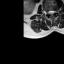CCS_normal: (50, 8, 52, 17)
LFS_normal: (55, 7, 57, 14)
LLS_normal: (52, 8, 55, 15)
RFS_normal: (46, 8, 48, 16)
RLS_normal: (48, 8, 50, 16)
